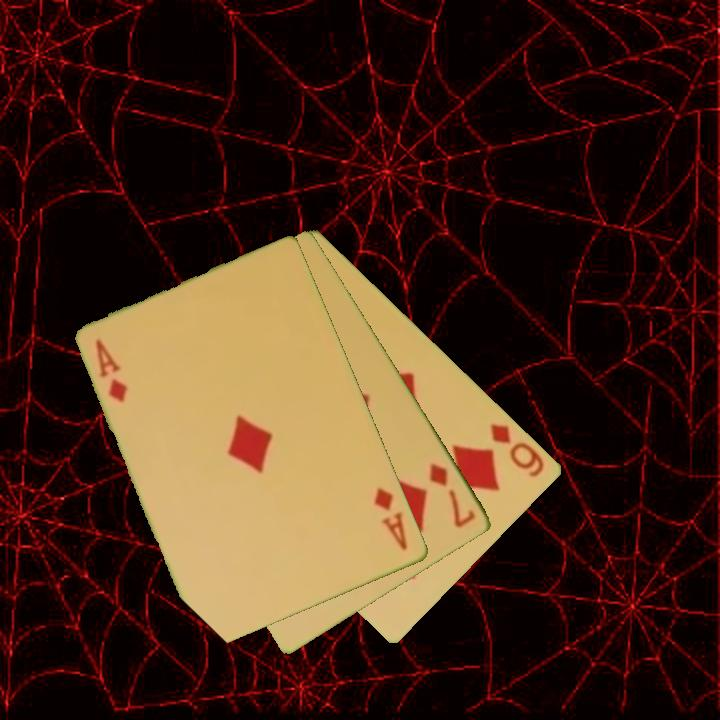6d: (487, 419, 548, 480)
7d: (426, 459, 479, 532)
Ad: (370, 484, 411, 554), (92, 336, 131, 406)
